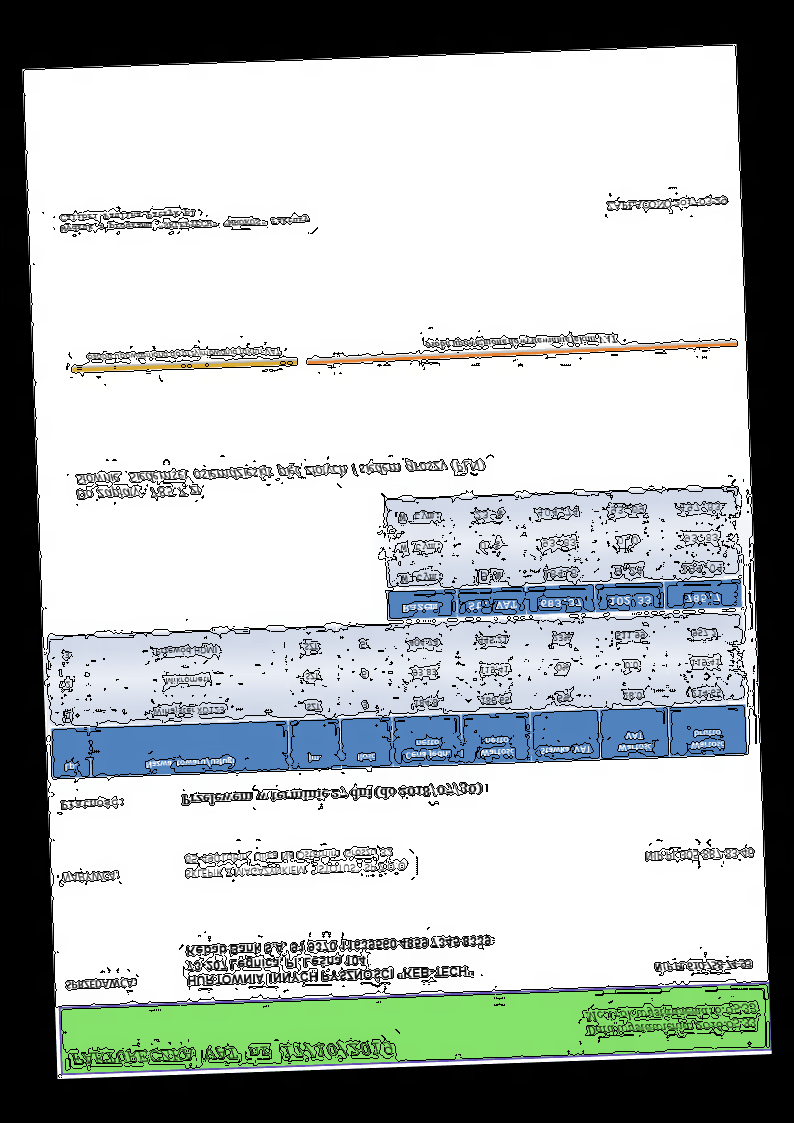Table: (46, 610, 749, 781), (382, 485, 744, 621)
TextBox: (72, 457, 487, 505), (183, 931, 495, 991), (68, 1037, 395, 1069), (182, 843, 411, 882), (179, 781, 483, 809), (58, 203, 312, 235), (582, 1000, 759, 1039), (85, 343, 284, 365), (423, 332, 619, 353), (603, 194, 728, 213), (641, 845, 756, 865), (652, 957, 754, 975), (63, 976, 139, 993), (58, 797, 126, 813), (60, 870, 120, 886)
